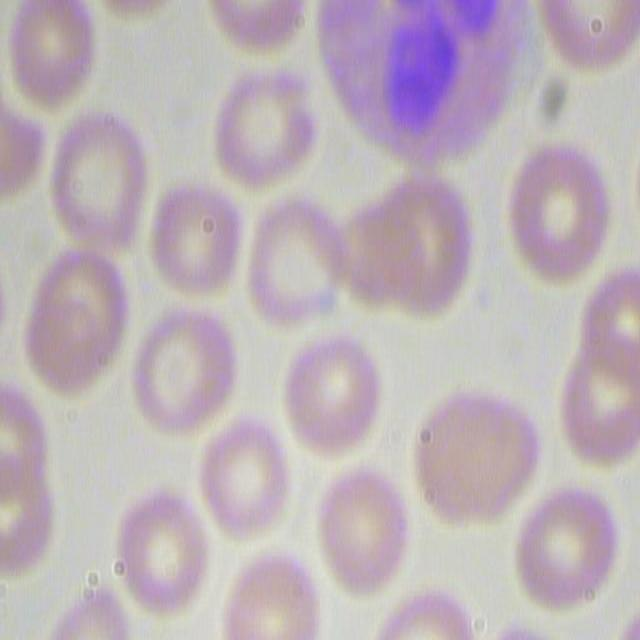RBC: (328, 165, 472, 330), (407, 381, 540, 531), (503, 136, 621, 291), (23, 239, 129, 402), (247, 176, 354, 337), (554, 266, 636, 471), (130, 293, 241, 442), (44, 112, 151, 258), (508, 483, 623, 614), (276, 322, 385, 458), (210, 66, 321, 198), (110, 491, 210, 629), (310, 464, 406, 597), (1, 392, 62, 599), (197, 420, 294, 543), (1, 2, 97, 110), (218, 551, 321, 638), (531, 0, 637, 74), (198, 0, 311, 53)
WBC: (322, 0, 530, 153)
